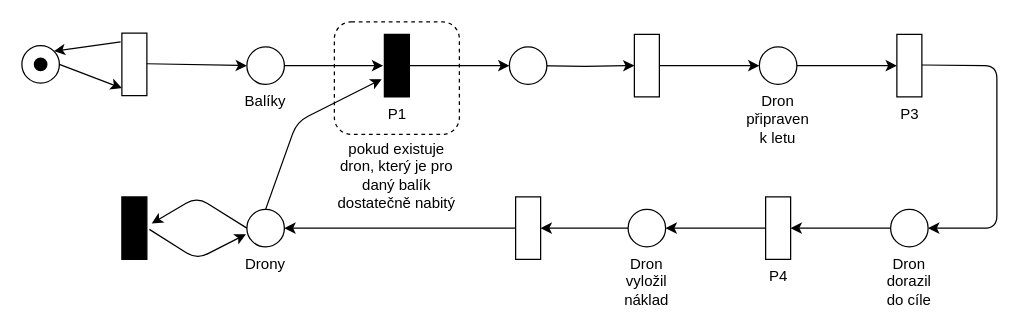
Image size: 1029x331. Some labels were removed from this diagram. The centre of each missing label's shape, as x and y in pixels:
"Dron přiřazen" belongs at (x=527, y=65).
"Exp(1)" belongs at (x=134, y=64).
"P2 Uniform(3,4)" belongs at (x=646, y=65).
"P5" belongs at (x=527, y=227).
"P6" belongs at (x=134, y=227).
